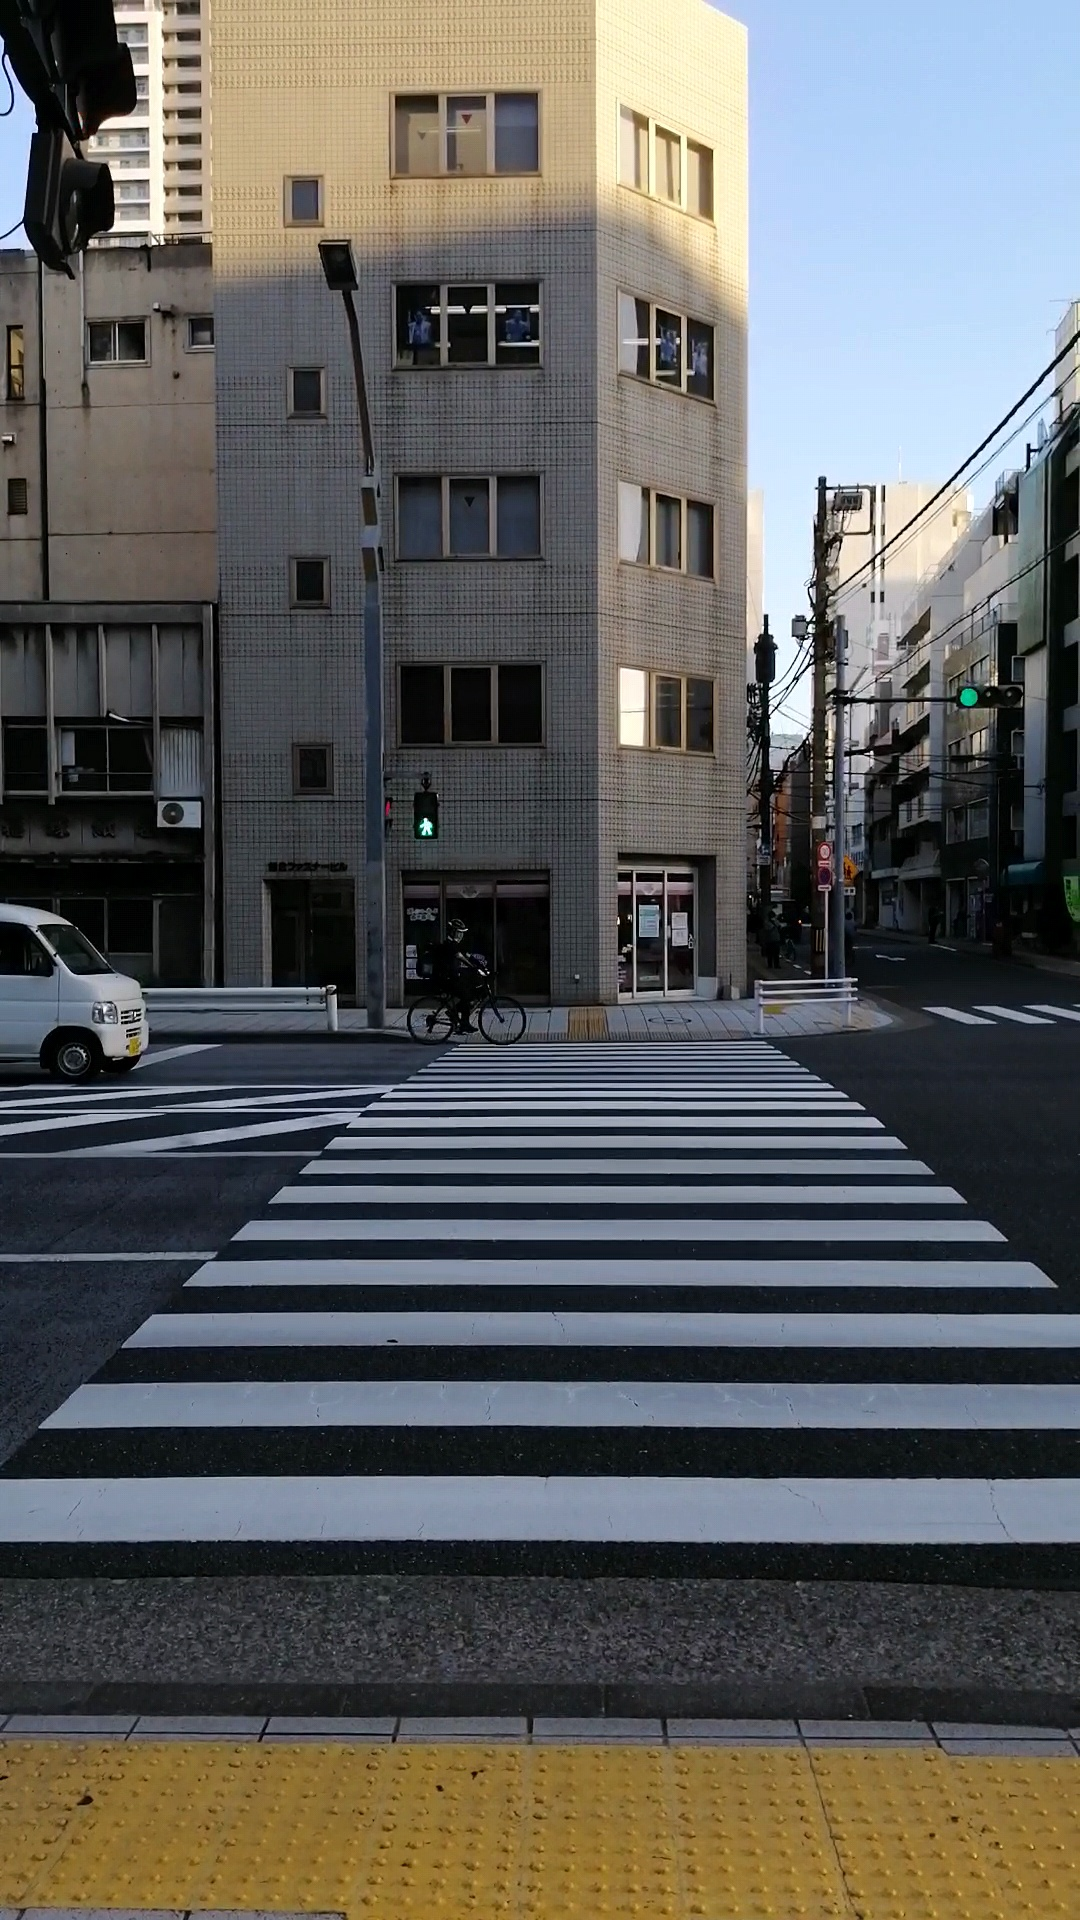green: (410, 790, 440, 841)
